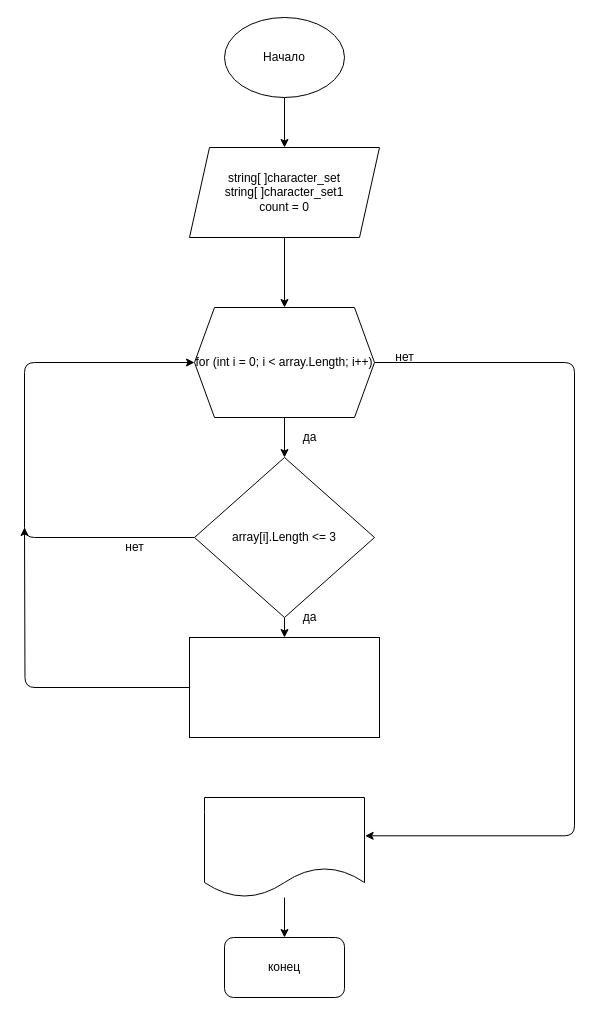
Some shapes in this 600 by 1015 pixel diagram are drawn without their labels. Here are the shapes that lost their labels. From the top down, the box of each, then its label:
(188, 636, 380, 738): array2[count] = array[i]; count++;
(204, 796, 364, 898): Print(character_set1);
